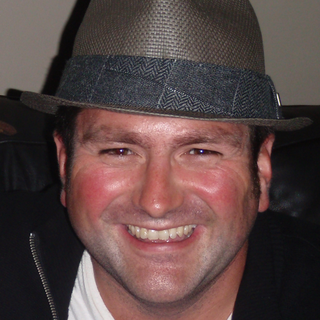eye: (180, 142, 227, 165), (95, 144, 144, 161)
